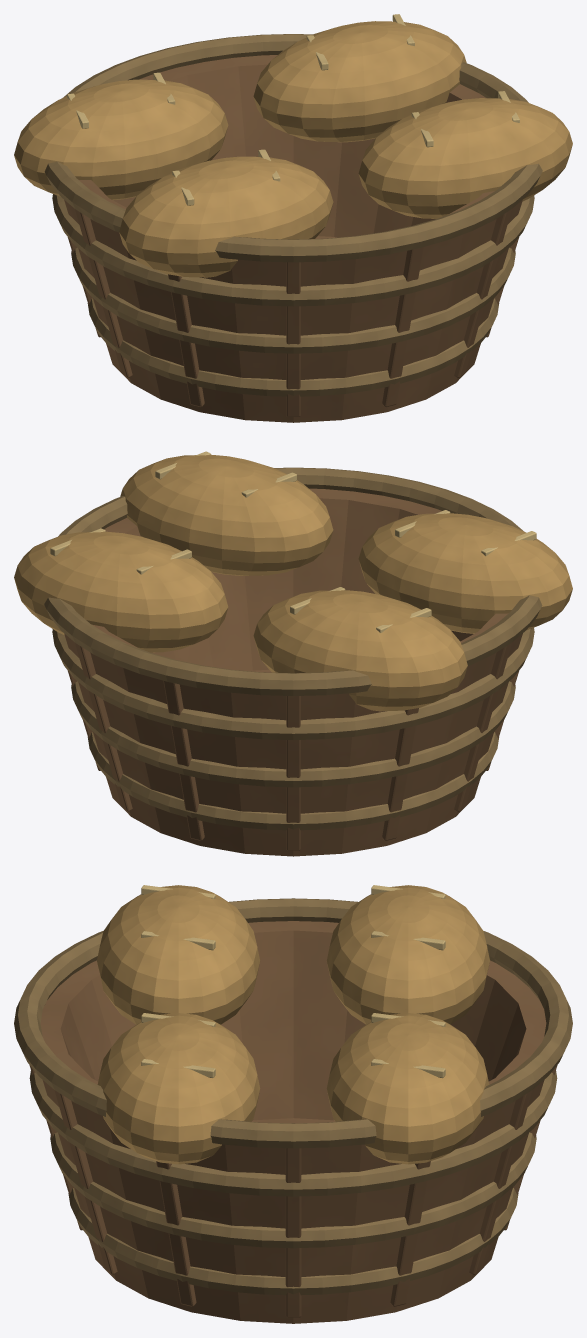
The model's file is Bread_Basket.fbx.
3 views of the same model, one above another, from view 1: azimuth 30°, elevation 25°; view 2: azimuth 150°, elevation 25°; view 3: azimuth 270°, elevation 25° (orthographic). The views are drawn at different scales.
Visible parts, largest first — view 1: Bread_Basket.001; view 2: Bread_Basket.001; view 3: Bread_Basket.001.
Boxes of the visible parts, left/top/right/bottom form: Bread_Basket.001: left=14, top=14, right=572, bottom=422; Bread_Basket.001: left=14, top=451, right=572, bottom=856; Bread_Basket.001: left=14, top=885, right=572, bottom=1323.
Bounding box in the file's own units: 0.924 × 0.485 × 0.924.
